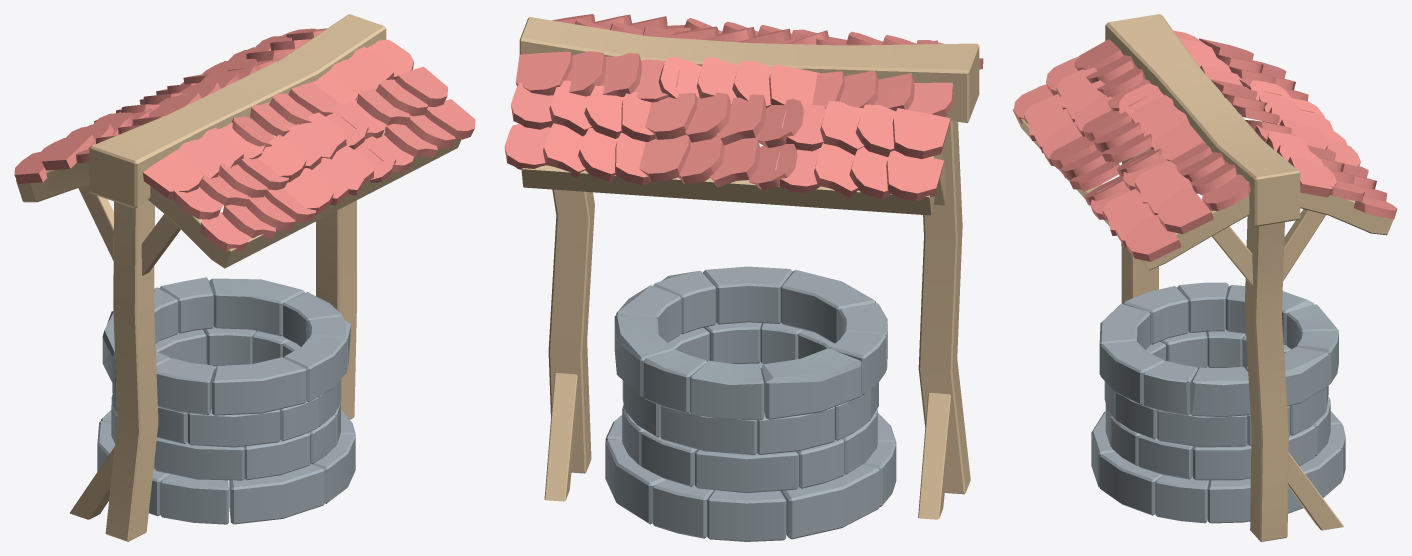
Rendered from pozzo.fbx.
3 renders of one model, left to right at view 1: azimuth 30°, elevation 25°; view 2: azimuth 150°, elevation 25°; view 3: azimuth 270°, elevation 25°, orthographic. The views are drawn at different scales.
Visible parts, largest first — view 1: pozzo:pCube14, pozzo:pCube9 (×4), pozzo:pPlane1 (×12), pozzo:pCube13, pozzo:pPlane3 (×9), pozzo:pPlane2 (×9), pozzo:pPlane4 (×9), pozzo:pCube8 (×3), pozzo:pCube4 (×2), pozzo:pCube1 (×3), pozzo:Struttura, pozzo:pCube11 (+9 smaller); view 2: pozzo:pPlane1 (×9), pozzo:pCube6 (×4), pozzo:pCube13, pozzo:pPlane3 (×9), pozzo:pPlane2 (×9), pozzo:pPlane4 (×9), pozzo:pCube5 (×4), pozzo:pCube14, pozzo:pCube11, pozzo:pCube7 (×4), pozzo:pCube9 (×2), pozzo:Struttura (+8 smaller); view 3: pozzo:pPlane1 (×15), pozzo:pCube13, pozzo:pCube11, pozzo:pPlane3 (×12), pozzo:pCube3 (×4), pozzo:pPlane2 (×10), pozzo:pCube2 (×4), pozzo:pPlane4 (×9), pozzo:pCube4 (×3), pozzo:pCube1 (×2), pozzo:pCube6 (×2), pozzo:Struttura (+9 smaller).
Boxes of the visible parts, x1,y1,x2,y2 form: pozzo:pCube14: [105, 200, 158, 541]; pozzo:pCube9 (×4): [154, 329, 324, 524]; pozzo:pPlane1 (×12): [14, 66, 475, 222]; pozzo:pCube13: [89, 14, 386, 208]; pozzo:pPlane3 (×9): [197, 46, 437, 238]; pozzo:pPlane2 (×9): [177, 59, 455, 230]; pozzo:pPlane4 (×9): [173, 39, 413, 251]; pozzo:pCube8 (×3): [156, 326, 256, 524]; pozzo:pCube4 (×2): [188, 278, 304, 447]; pozzo:pCube1 (×3): [243, 336, 355, 503]; pozzo:Struttura: [16, 139, 461, 268]; pozzo:pCube11: [316, 200, 356, 419]; pozzo:pPlane1 (×9): [515, 51, 950, 201]; pozzo:pCube6 (×4): [667, 327, 879, 539]; pozzo:pCube13: [519, 17, 979, 122]; pozzo:pPlane3 (×9): [543, 53, 914, 197]; pozzo:pPlane2 (×9): [566, 51, 895, 199]; pozzo:pPlane4 (×9): [504, 57, 953, 193]; pozzo:pCube5 (×4): [641, 322, 786, 541]; pozzo:pCube14: [918, 121, 970, 494]; pozzo:pCube11: [548, 189, 594, 473]; pozzo:pCube7 (×4): [622, 322, 803, 538]; pozzo:pCube9 (×2): [660, 270, 875, 454]; pozzo:Struttura: [521, 155, 936, 215]; pozzo:pPlane1 (×15): [1042, 38, 1360, 261]; pozzo:pCube13: [1105, 14, 1300, 226]; pozzo:pCube11: [1244, 217, 1288, 541]; pozzo:pPlane3 (×12): [1023, 65, 1310, 235]; pozzo:pCube3 (×4): [1138, 331, 1250, 523]; pozzo:pPlane2 (×10): [1034, 54, 1323, 247]; pozzo:pCube2 (×4): [1112, 329, 1245, 523]; pozzo:pPlane4 (×9): [1013, 56, 1397, 218]; pozzo:pCube4 (×3): [1193, 347, 1341, 513]; pozzo:pCube1 (×2): [1100, 340, 1164, 515]; pozzo:pCube6 (×2): [1157, 285, 1313, 447]; pozzo:Struttura: [1012, 109, 1393, 270].
Size of the model in its own units: 2.47 by 2.26 by 2.09.
